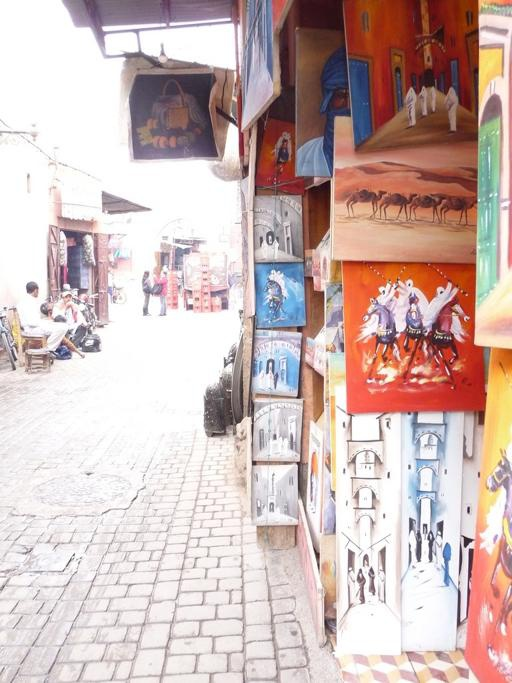non-vehicle: (68, 293, 100, 330), (0, 305, 18, 370), (107, 276, 126, 304)
